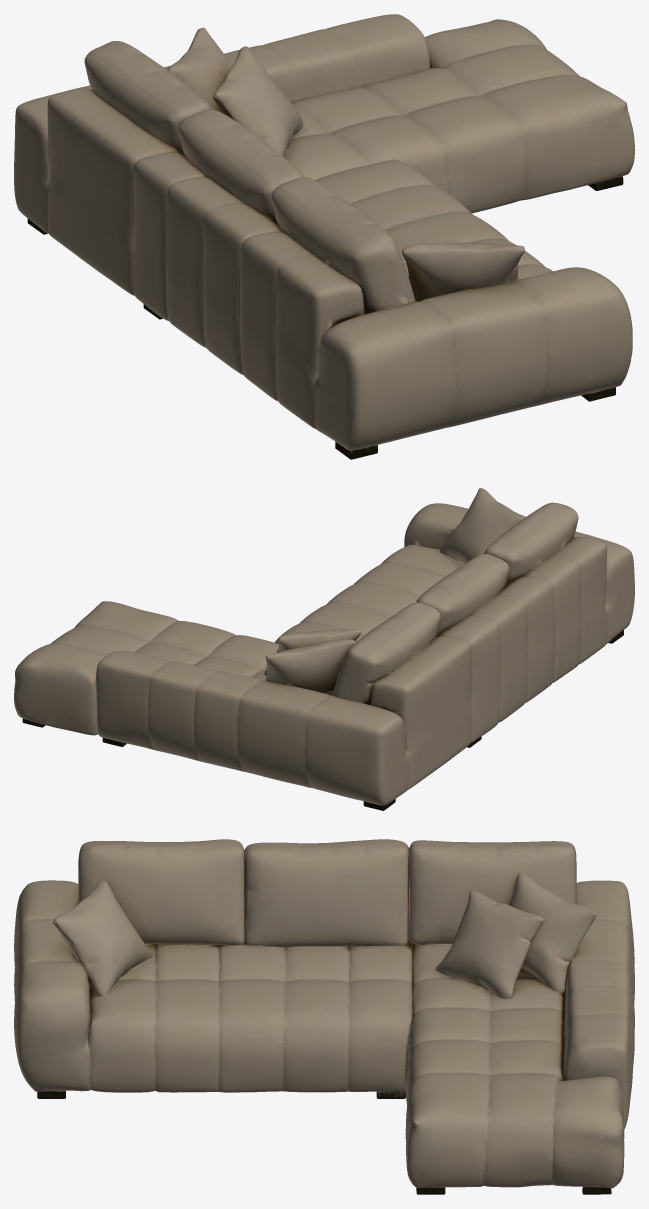
File: caravanafurniture-com-products-right-facing-chaise-sectional-a7a3a3.glb
The picture shows the model from 3 angles, top to bottom: view 1: azimuth 30°, elevation 25°; view 2: azimuth 150°, elevation 25°; view 3: azimuth 270°, elevation 25°; orthographic projection. The views are drawn at different scales.
Parts seen in each view (by area): view 1: tripo_node_1a09af95-449f-4676-92c3-474396990eed; view 2: tripo_node_1a09af95-449f-4676-92c3-474396990eed; view 3: tripo_node_1a09af95-449f-4676-92c3-474396990eed.
Boxes of the visible parts, <box> form: tripo_node_1a09af95-449f-4676-92c3-474396990eed: <box>14,14,634,459</box>; tripo_node_1a09af95-449f-4676-92c3-474396990eed: <box>14,488,634,810</box>; tripo_node_1a09af95-449f-4676-92c3-474396990eed: <box>14,839,634,1194</box>.
Size of the model in its own units: 0.8431 by 0.2948 by 1.
1 material, 1 textured.
